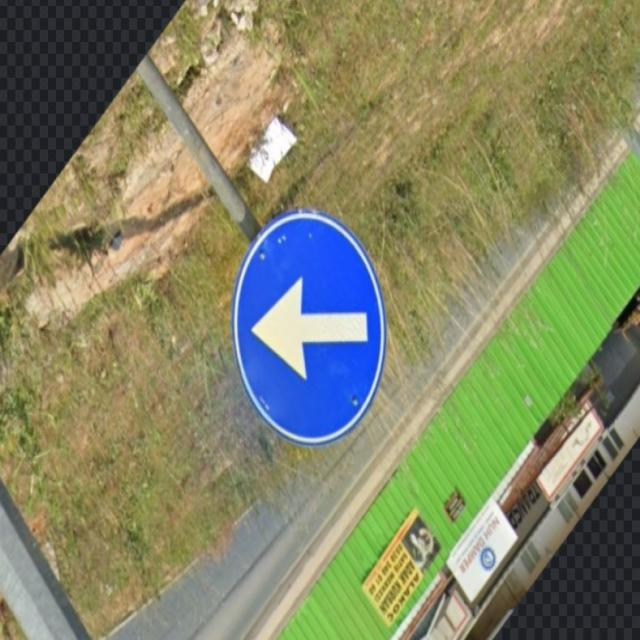Turn Left: (232, 208, 386, 445)
